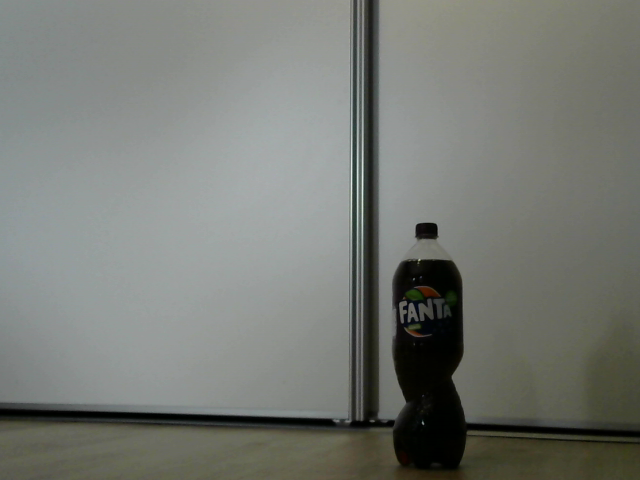bottle: (393, 223, 466, 475)
